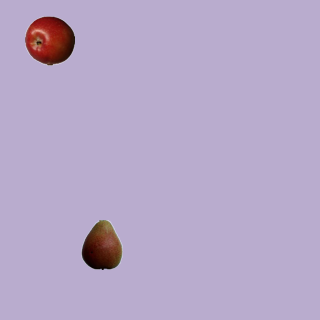Apple Braeburn: (24, 15, 74, 65)
Pear Forelle: (76, 219, 126, 269)
